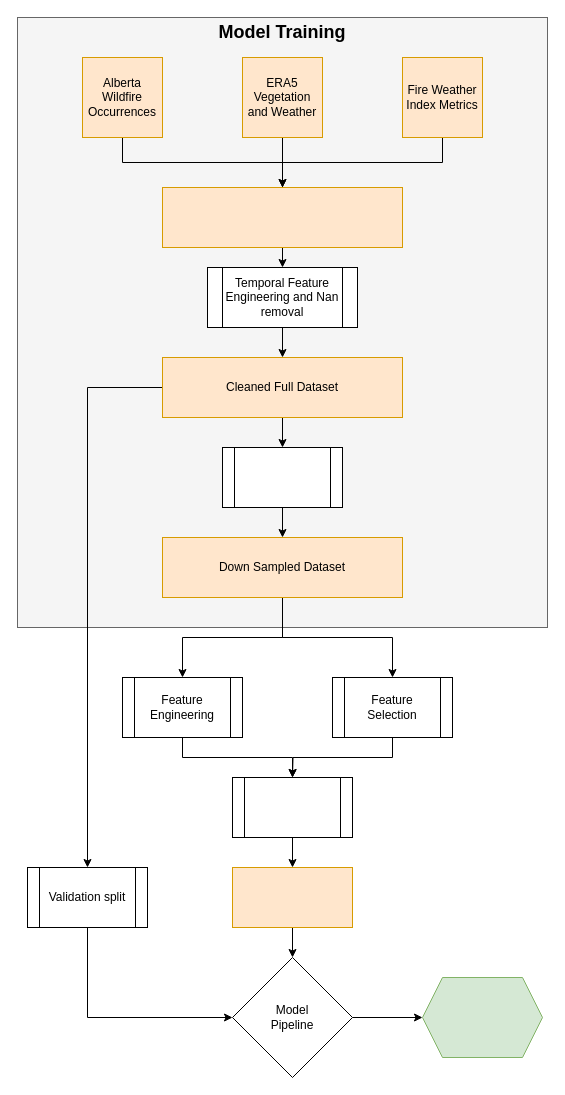
Some shapes in this 565 by 1095 pixel diagram are drawn without their labels. The shapes that lost their labels are listed below. From the top down, each one's box as (x1, y1, x2, y2) in pixels, then its label:
(162, 186, 402, 248): Combined Dataset Spatio-temporal data for Alberta
(222, 446, 342, 508): Point Selection
(232, 776, 352, 838): Test and training split
(232, 866, 352, 928): Model training and test dataset
(422, 976, 542, 1058): Fire Occurrence Predictive model
